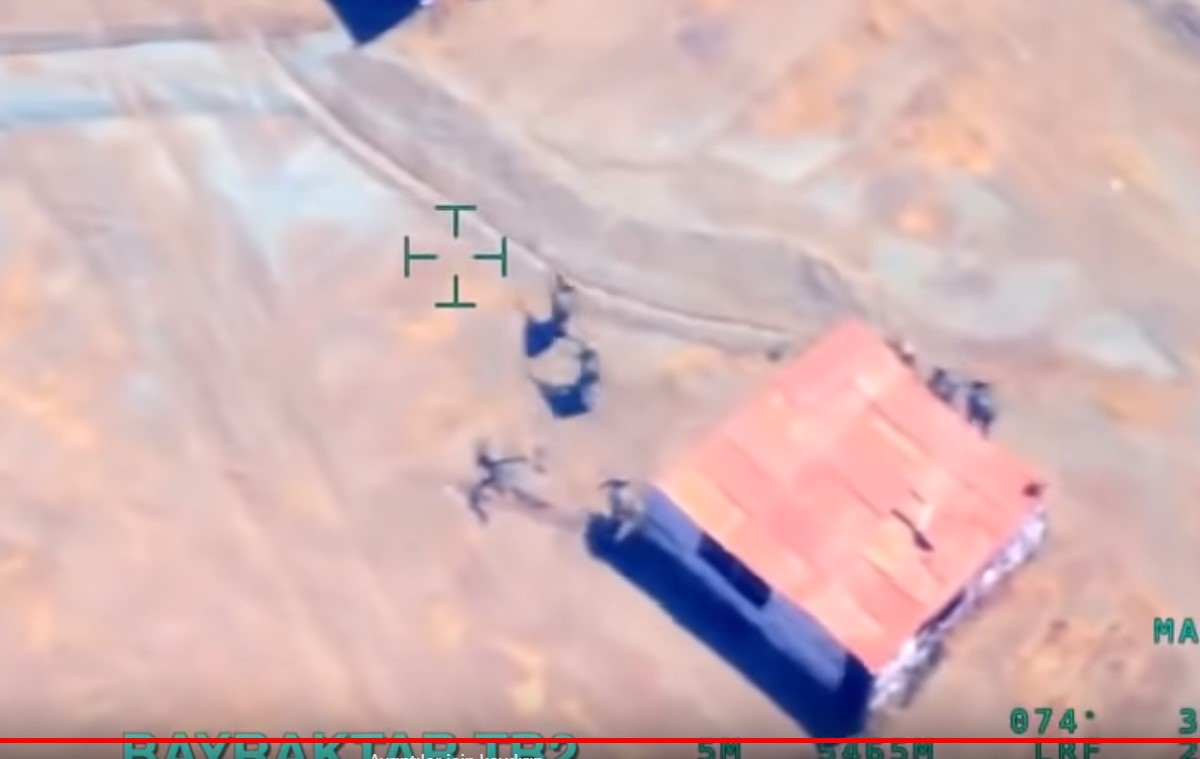insan: (542, 270, 580, 332), (571, 338, 605, 407)
